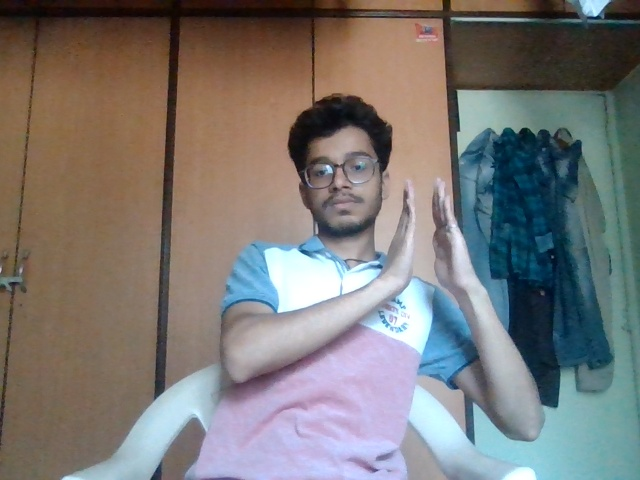morning: (376, 171, 483, 325)
